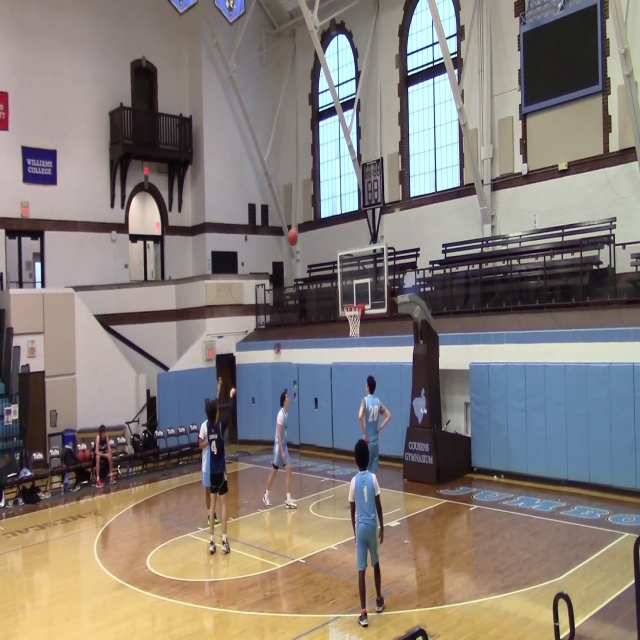Basketball: (287, 229, 298, 246)
